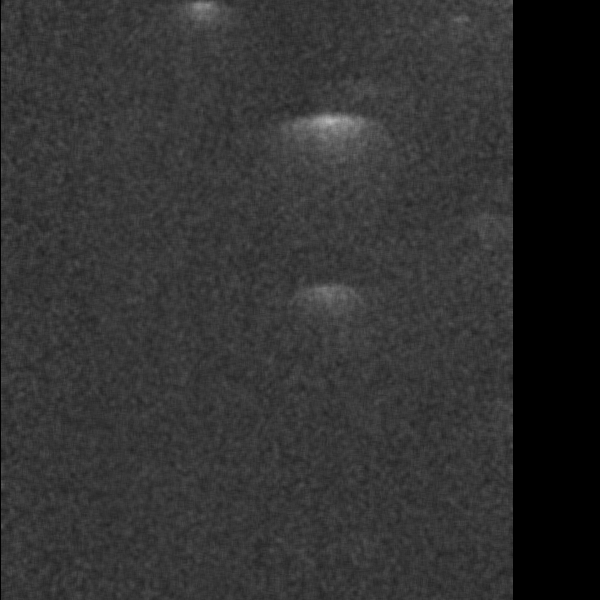spark: (3, 281, 58, 328), (170, 383, 201, 421)
